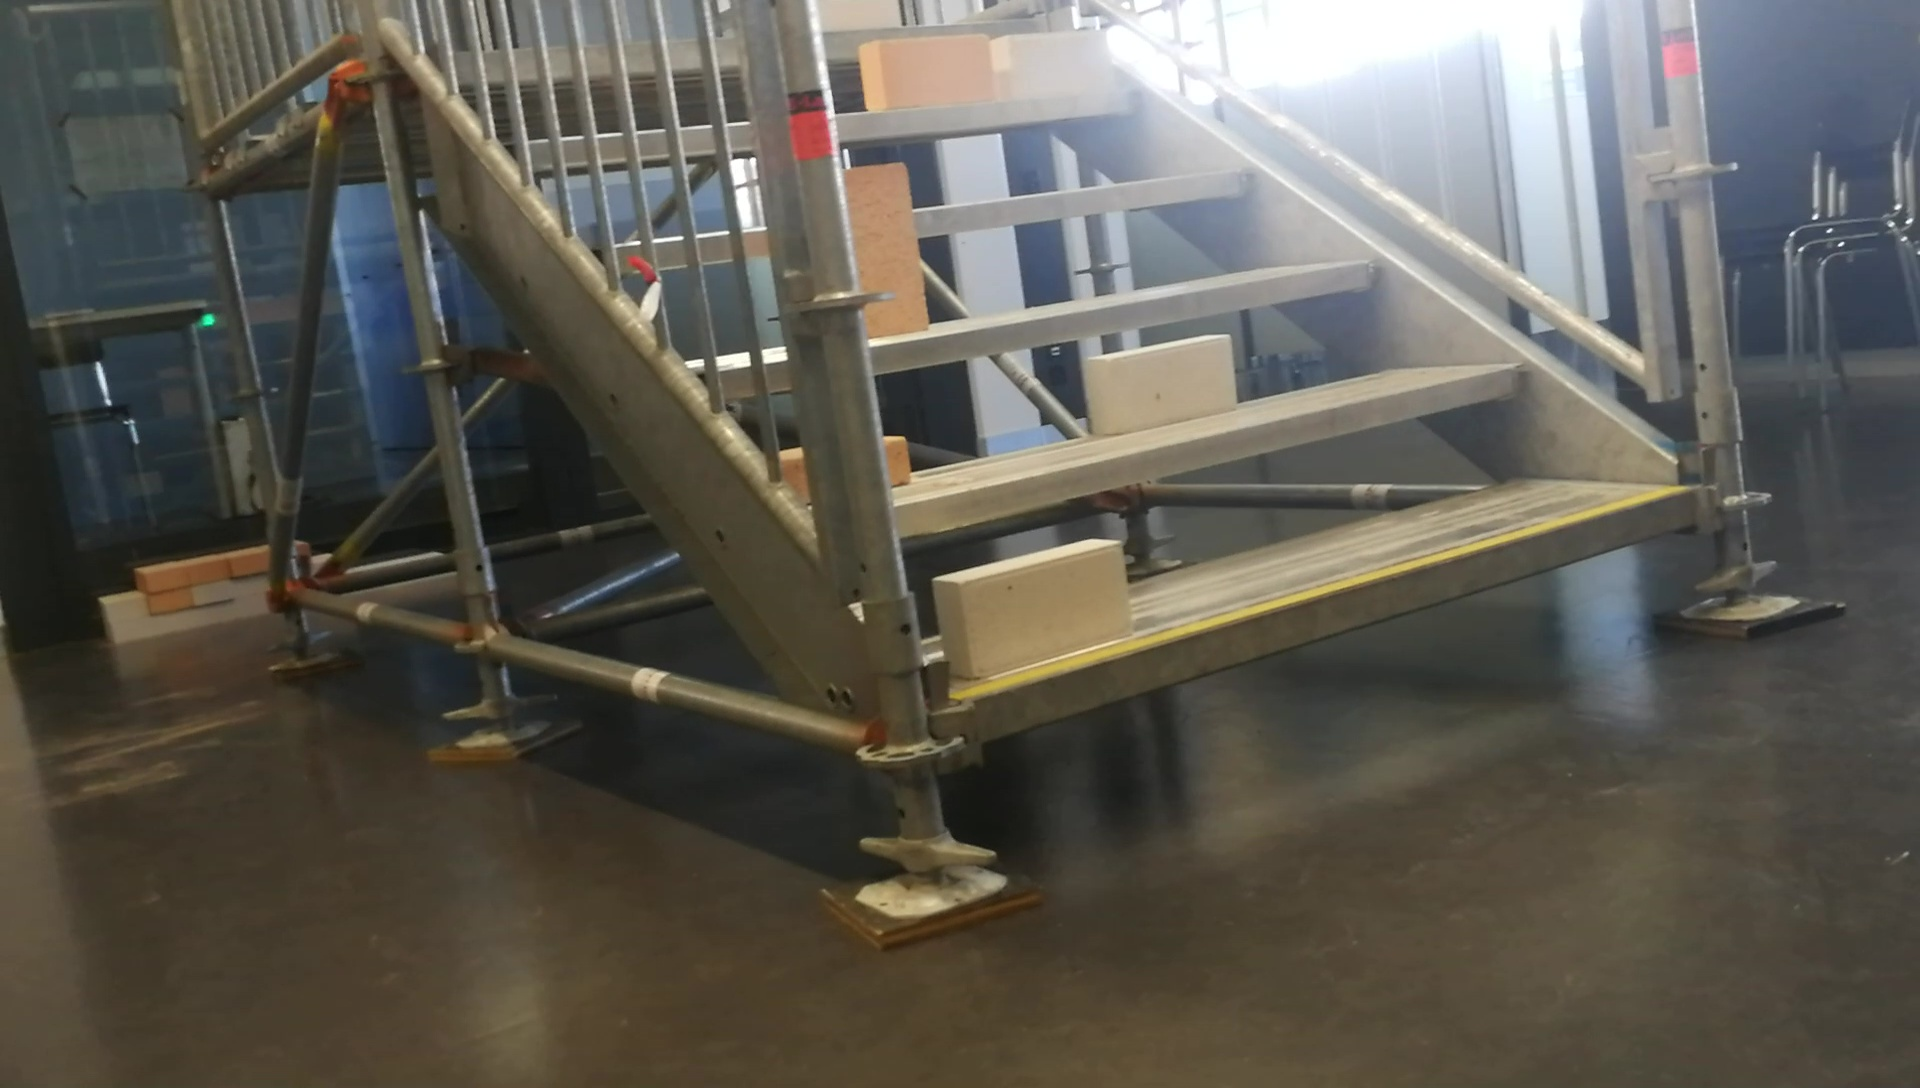brick: (935, 539, 1125, 677), (843, 162, 928, 340), (1083, 330, 1234, 430), (862, 34, 986, 109), (993, 32, 1106, 98), (884, 433, 907, 487)
edge: (977, 488, 1697, 739), (891, 367, 1518, 539)
stairs: (872, 5, 1847, 952)
